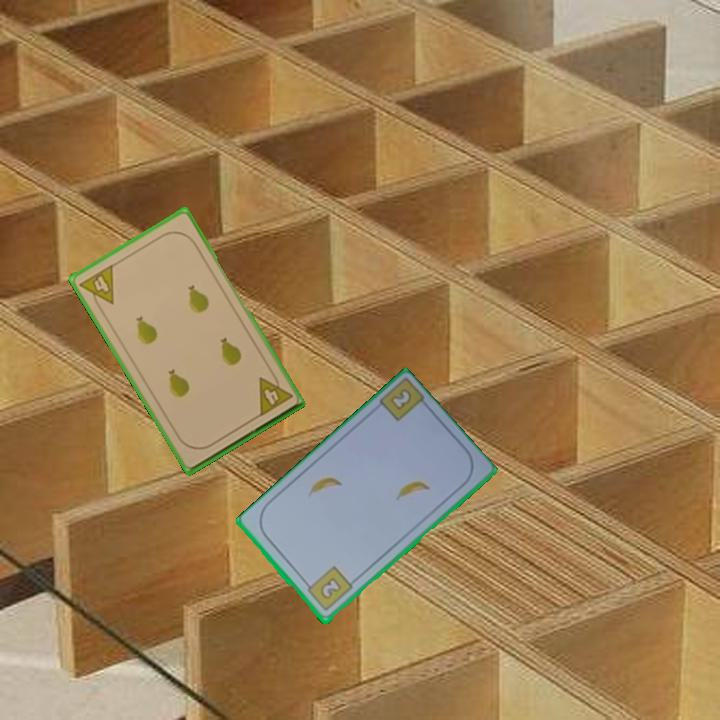2b: (301, 563, 355, 614), (389, 387, 413, 411)
4p: (76, 261, 117, 314), (255, 368, 295, 419)
